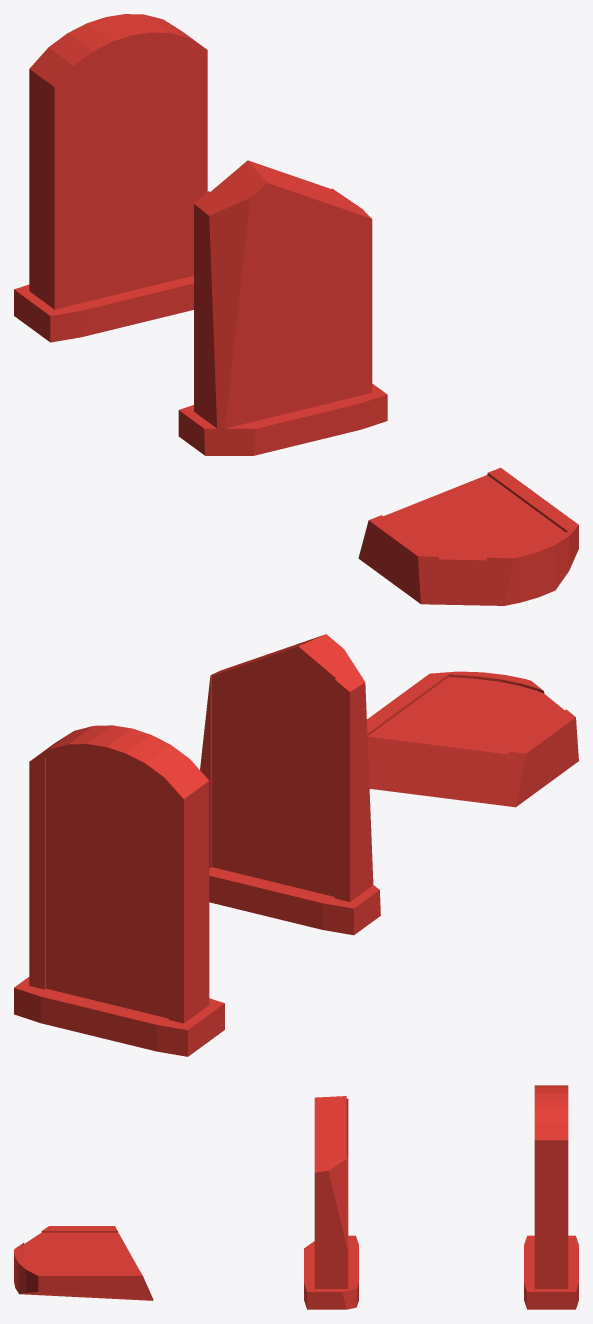
Rendered from Total Assets2.fbx_Headstone06.fbx.
3 views of the same model, one above another, from view 1: azimuth 30°, elevation 25°; view 2: azimuth 150°, elevation 25°; view 3: azimuth 270°, elevation 25° (orthographic). The views are drawn at different scales.
Visible parts, largest first — view 1: headstones_6, headstones_6_002, headstones_6_001; view 2: headstones_6, headstones_6_002, headstones_6_001; view 3: headstones_6, headstones_6_002, headstones_6_001.
Boxes of the visible parts, x1=… form: headstones_6: x1=14, y1=14, x2=207, y2=342; headstones_6_002: x1=178, y1=160, x2=387, y2=455; headstones_6_001: x1=358, y1=467, x2=578, y2=605; headstones_6: x1=14, y1=725, x2=224, y2=1056; headstones_6_002: x1=200, y1=634, x2=380, y2=935; headstones_6_001: x1=367, y1=671, x2=578, y2=807; headstones_6: x1=524, y1=1085, x2=578, y2=1309; headstones_6_002: x1=304, y1=1096, x2=358, y2=1309; headstones_6_001: x1=14, y1=1226, x2=153, y2=1300.
Bounding box in the file's own units: 78.91 × 123 × 335.
